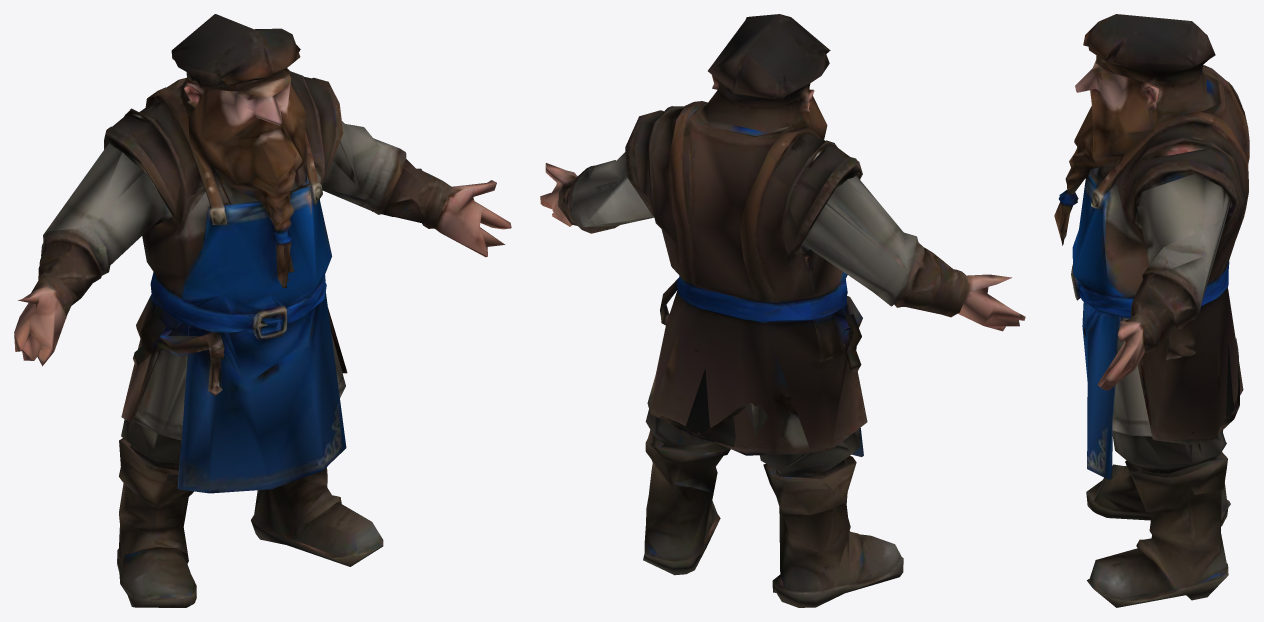
The model's file is dwf_worker_lo.glb.
3 renders of one model, left to right at view 1: azimuth 30°, elevation 25°; view 2: azimuth 150°, elevation 25°; view 3: azimuth 270°, elevation 25°, orthographic. The views are drawn at different scales.
Parts seen in each view (by area): view 1: node_0; view 2: node_0; view 3: node_0.
Boxes of the visible parts, x1,y1,x2,y2 form: node_0: (14, 14, 511, 607); node_0: (540, 14, 1025, 607); node_0: (1054, 14, 1249, 607).
Bounding box in the file's own units: 1.03 × 1.09 × 0.3572.
1 material, 1 textured.
